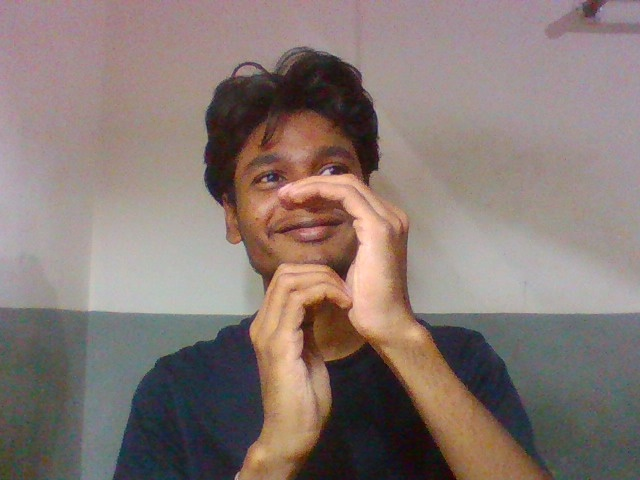S: (226, 160, 437, 437)
